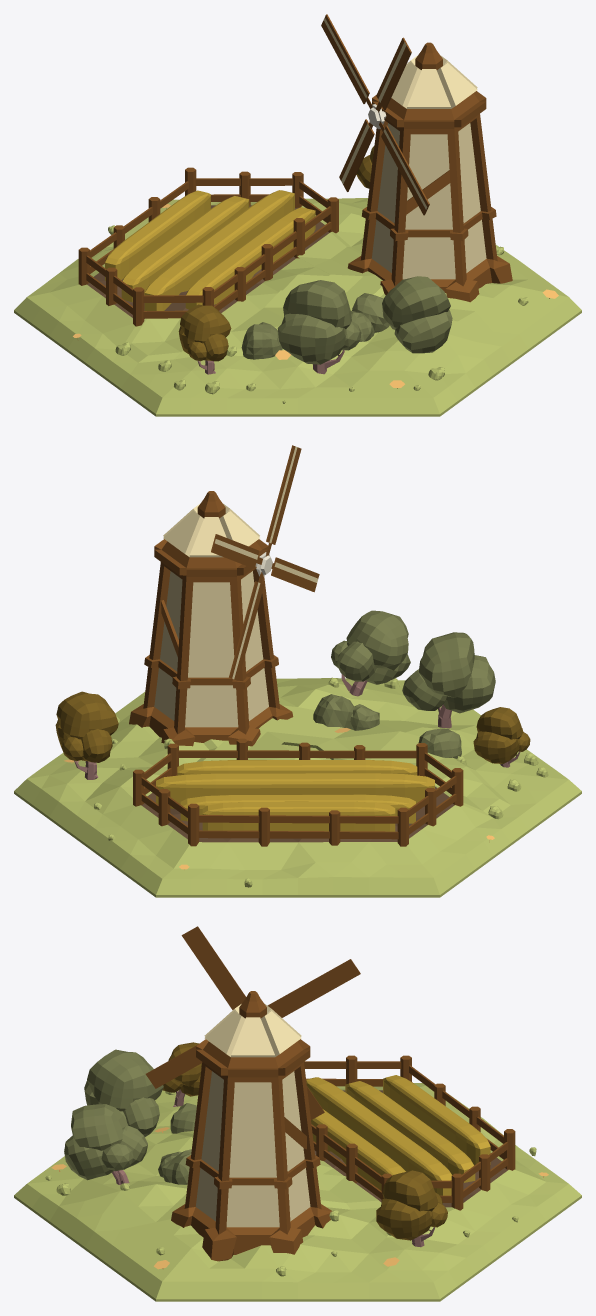
File: farm.glb
3 renders of one model, top to bottom at view 1: azimuth 30°, elevation 25°; view 2: azimuth 150°, elevation 25°; view 3: azimuth 270°, elevation 25°, orthographic.
Visible parts, largest first — view 1: land, building, big_details, small_details; view 2: land, building, big_details, small_details; view 3: land, building, big_details, small_details.
Boxes of the visible parts, x1,y1,x2,y2 form: land: (14,198,581,416); building: (78,14,512,326); big_details: (105,145,452,374); small_details: (73,199,558,403); land: (14,678,581,897); building: (129,445,463,846); big_details: (55,610,530,831); small_details: (64,677,548,887); land: (14,1083,581,1301); building: (145,926,515,1261); big_details: (64,1042,490,1247); small_details: (45,1091,548,1276).
Size of the model in its own units: 1.73 by 1.17 by 2.
